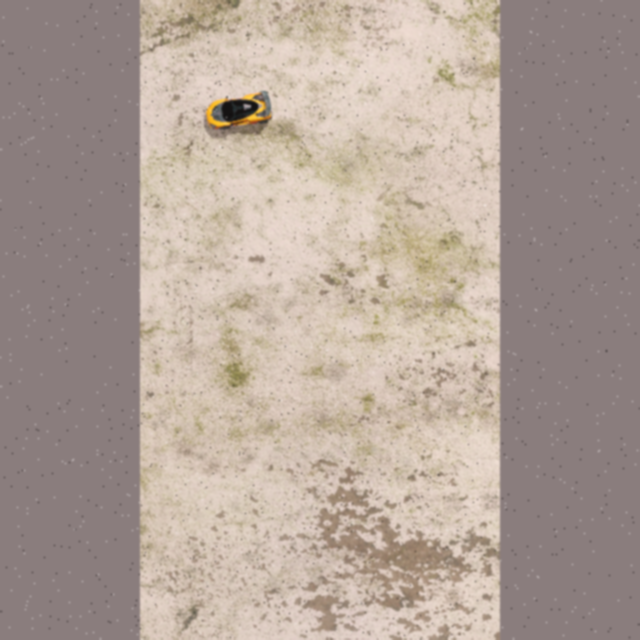car: (201, 87, 274, 133)
